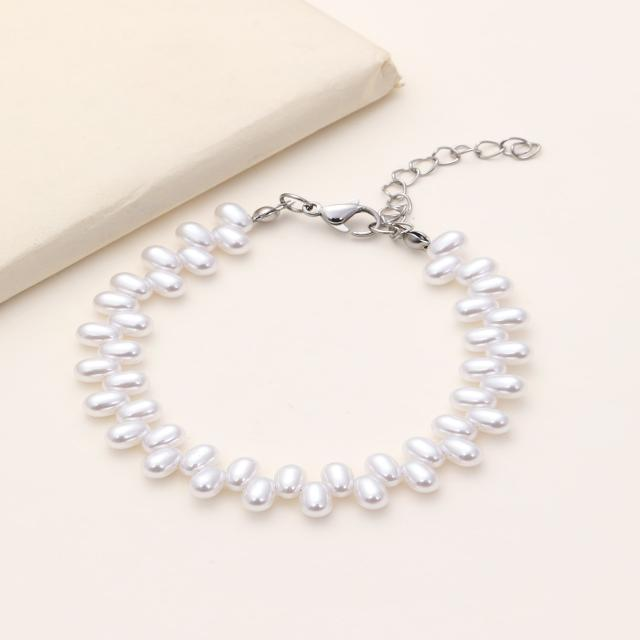bracelet: (13, 55, 640, 583)
